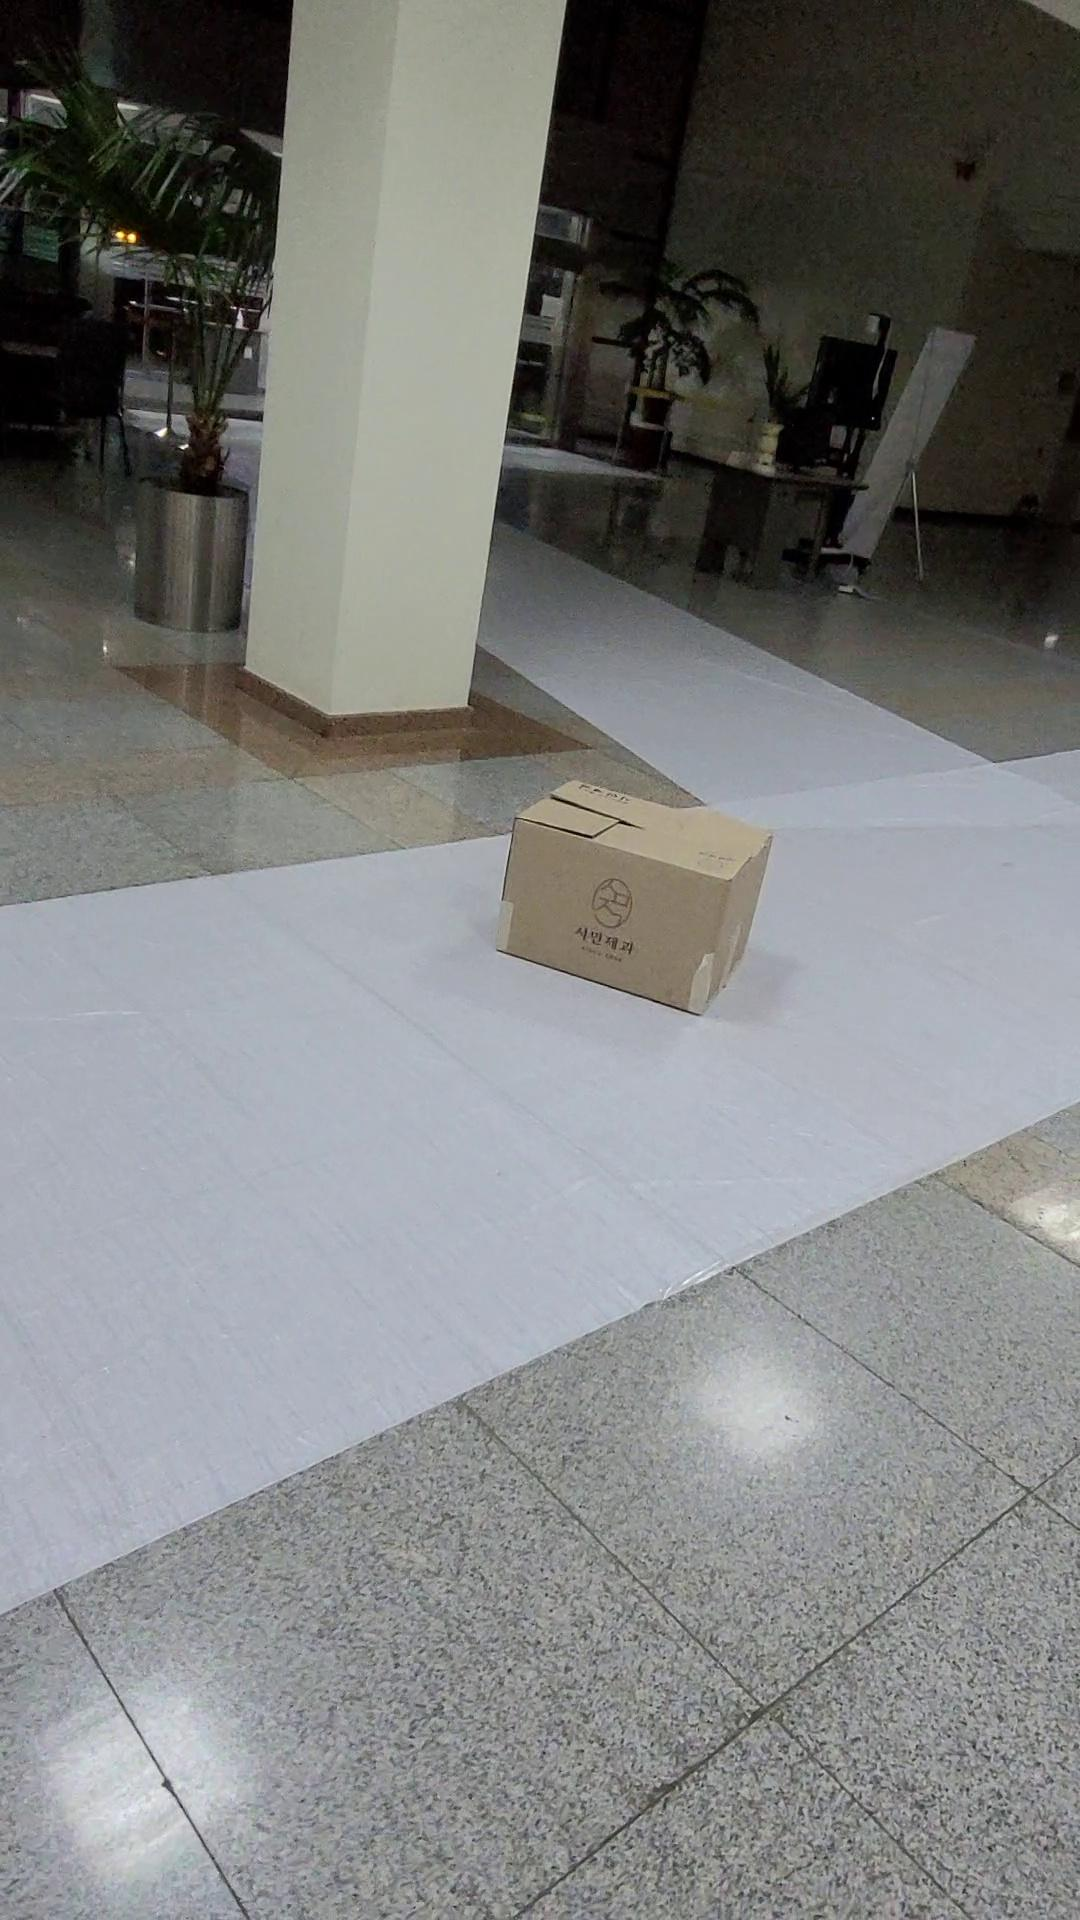Box: (456, 760, 802, 1035)
